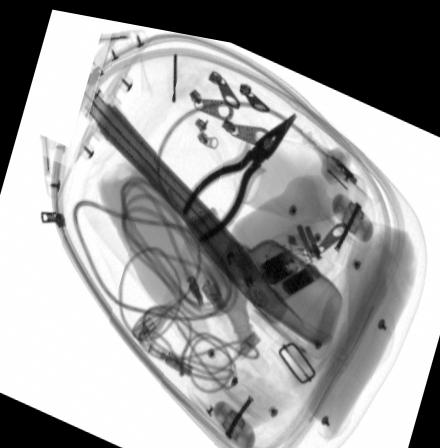Pliers: (180, 100, 298, 235)
